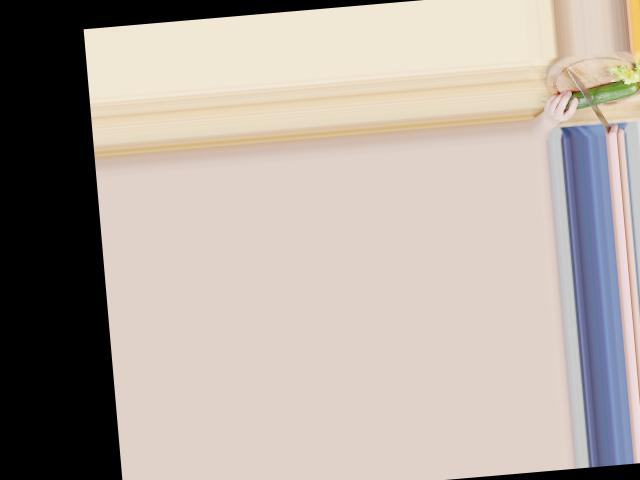cucumber: (562, 80, 640, 110)
